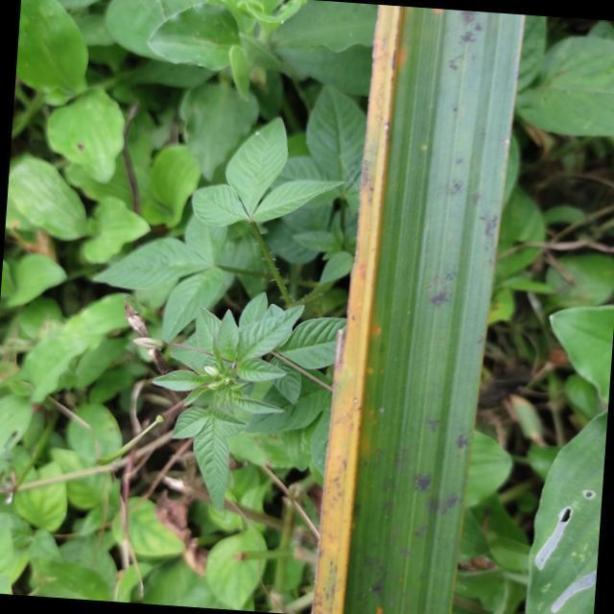Megnesium: (308, 3, 526, 614)
